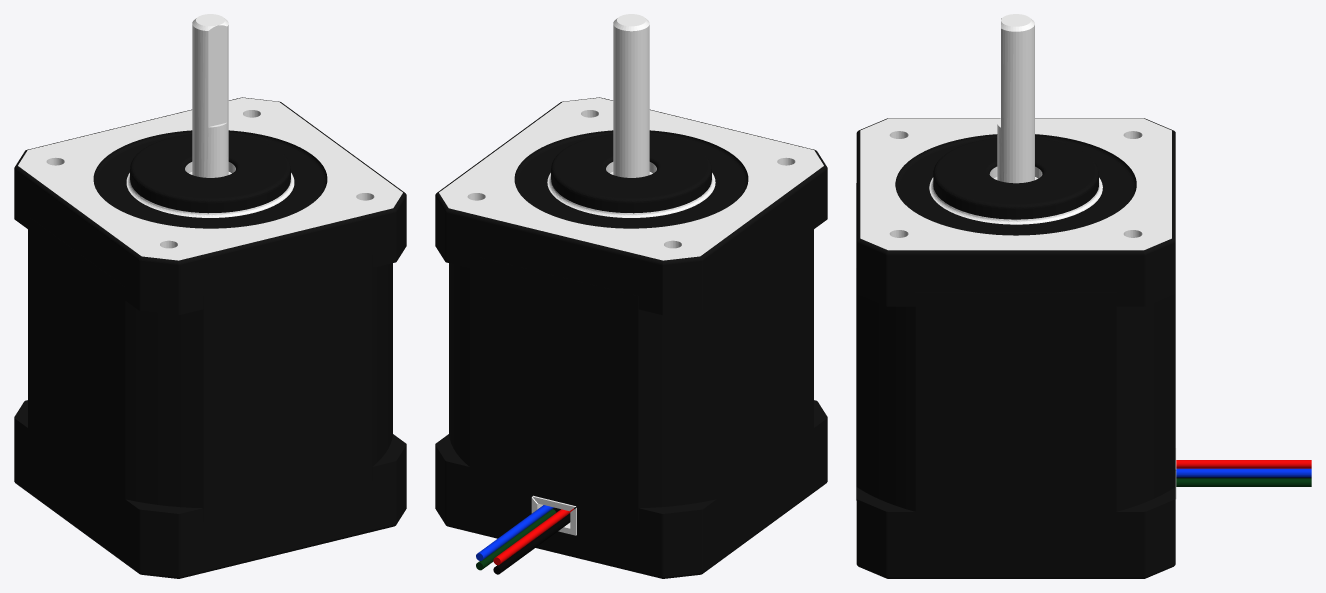
Rendered from stepperonline-17hs19-2004s1.glb.
3 views of the same model, side by side, from view 1: azimuth 30°, elevation 25°; view 2: azimuth 150°, elevation 25°; view 3: azimuth 270°, elevation 25° (orthographic). The views are drawn at different scales.
Visible parts, largest first — view 1: stepperonline-17hs19-2004s1; view 2: stepperonline-17hs19-2004s1; view 3: stepperonline-17hs19-2004s1.
Boxes of the visible parts, <box> form: stepperonline-17hs19-2004s1: <box>14,14,406,578</box>; stepperonline-17hs19-2004s1: <box>435,14,827,578</box>; stepperonline-17hs19-2004s1: <box>856,14,1311,578</box>.
Bounding box in the file's own units: 42.32 × 72 × 60.31.
